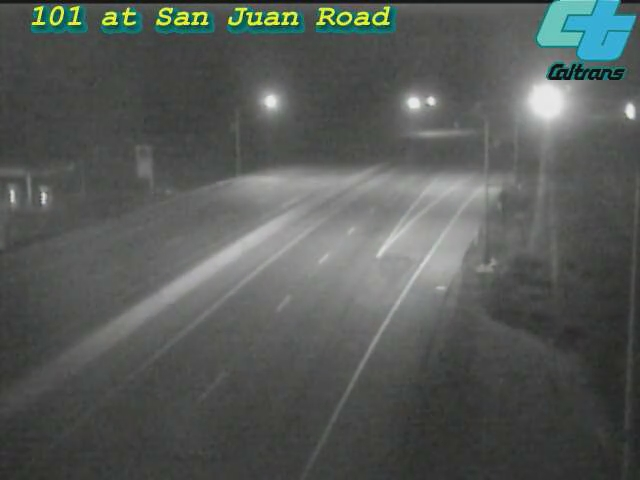vehicle: (522, 78, 572, 128), (607, 86, 640, 136)
